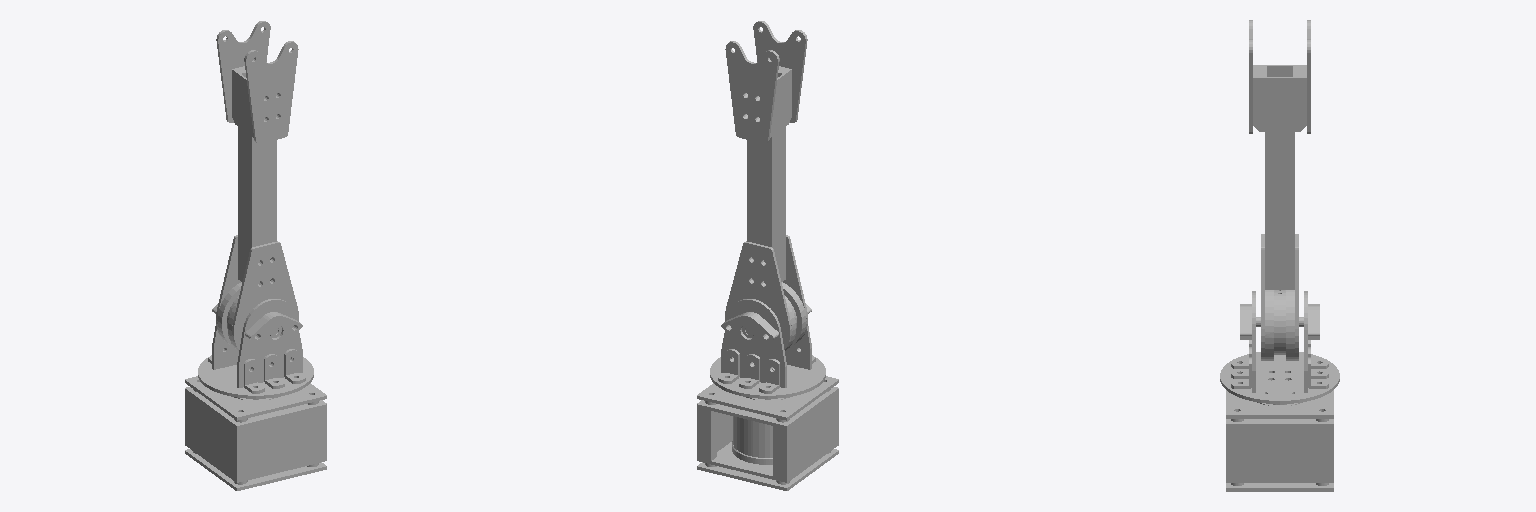
URDF robot description (Phase 1 Links 1 and 2):
<?xml version="1.0" encoding="utf-8"?>
<!-- This URDF was automatically created by SolidWorks to URDF Exporter! Originally created by [author] ([email redacted]) 
     Commit Version: 1.6.0-4-g7f85cfe  Build Version: 1.6.7995.38578
     For more information, please see http://wiki.ros.org/sw_urdf_exporter -->
<robot
  name="Phase 1 Links 1 and 2">
  <link
    name="base_link">
    <inertial>
      <origin
        xyz="-2.3158E-07 -0.0066564 0.035"
        rpy="0 0 0" />
      <mass
        value="1.3468" />
      <inertia
        ixx="0.001167"
        ixy="1.0458E-11"
        ixz="-1.3577E-14"
        iyy="0.001545"
        iyz="-3.1447E-14"
        izz="0.0023418" />
    </inertial>
    <visual>
      <origin
        xyz="0 0 0"
        rpy="0 0 0" />
      <geometry>
        <mesh
          filename="package://Phase 1 Links 1 and 2/meshes/base_link.STL" />
      </geometry>
      <material
        name="">
        <color
          rgba="0.75294 0.75294 0.75294 1" />
      </material>
    </visual>
    <collision>
      <origin
        xyz="0 0 0"
        rpy="0 0 0" />
      <geometry>
        <mesh
          filename="package://Phase 1 Links 1 and 2/meshes/base_link.STL" />
      </geometry>
    </collision>
  </link>
  <link
    name="Link 1 -  Purple">
    <inertial>
      <origin
        xyz="0.00046301 2.9701E-08 0.073559"
        rpy="0 0 0" />
      <mass
        value="0.3271" />
      <inertia
        ixx="0.00012213"
        ixy="-1.5392E-11"
        ixz="4.8687E-09"
        iyy="0.00013427"
        iyz="-6.6384E-11"
        izz="0.00011641" />
    </inertial>
    <visual>
      <origin
        xyz="0 0 0"
        rpy="0 0 0" />
      <geometry>
        <mesh
          filename="package://Phase 1 Links 1 and 2/meshes/Link 1 -  Purple.STL" />
      </geometry>
      <material
        name="">
        <color
          rgba="0.75294 0.75294 0.75294 1" />
      </material>
    </visual>
    <collision>
      <origin
        xyz="0 0 0"
        rpy="0 0 0" />
      <geometry>
        <mesh
          filename="package://Phase 1 Links 1 and 2/meshes/Link 1 -  Purple.STL" />
      </geometry>
    </collision>
  </link>
  <joint
    name="J1"
    type="revolute">
    <origin
      xyz="0 0 0.0025"
      rpy="0 0 0" />
    <parent
      link="base_link" />
    <child
      link="Link 1 -  Purple" />
    <axis
      xyz="0 0 1" />
    <limit
      lower="3.14"
      upper="-3.14"
      effort="10"
      velocity="100" />
  </joint>
  <link
    name="Link 2 - Orange ">
    <inertial>
      <origin
        xyz="2.4354E-06 0.10346 7.8406E-09"
        rpy="0 0 0" />
      <mass
        value="0.47746" />
      <inertia
        ixx="0.00097239"
        ixy="-6.6053E-09"
        ixz="2.5405E-12"
        iyy="9.7797E-05"
        iyz="-9.1051E-13"
        izz="0.00099837" />
    </inertial>
    <visual>
      <origin
        xyz="0 0 0"
        rpy="0 0 0" />
      <geometry>
        <mesh
          filename="package://Phase 1 Links 1 and 2/meshes/Link 2 - Orange .STL" />
      </geometry>
      <material
        name="">
        <color
          rgba="0.75294 0.75294 0.75294 1" />
      </material>
    </visual>
    <collision>
      <origin
        xyz="0 0 0"
        rpy="0 0 0" />
      <geometry>
        <mesh
          filename="package://Phase 1 Links 1 and 2/meshes/Link 2 - Orange .STL" />
      </geometry>
    </collision>
  </link>
  <joint
    name="J2"
    type="revolute">
    <origin
      xyz="0.0013777 0 0.133"
      rpy="1.5708 0 0" />
    <parent
      link="Link 1 -  Purple" />
    <child
      link="Link 2 - Orange " />
    <axis
      xyz="0 0 -1" />
    <limit
      lower="3.14"
      upper="-3.14"
      effort="10"
      velocity="100" />
  </joint>
</robot>

--- What the picture shows (computed from the rendered views, not written in the file) ---
3 views of the same robot in one strip: view 1: azimuth 30°, elevation 25°; view 2: azimuth 150°, elevation 25°; view 3: azimuth 270°, elevation 25° (orthographic).
Robot: Phase 1 Links 1 and 2 — 3 links, 2 joints (2 revolute); root link base_link; default pose: all joints at 0.
Visible links, largest first — view 1: Link 2 - Orange, base_link, Link 1 -  Purple; view 2: Link 2 - Orange, base_link, Link 1 -  Purple; view 3: Link 2 - Orange, base_link, Link 1 -  Purple.
Boxes of the visible links, x1=… form: Link 2 - Orange: x1=216, y1=21, x2=298, y2=350; base_link: x1=185, y1=376, x2=326, y2=490; Link 1 -  Purple: x1=198, y1=299, x2=313, y2=399; Link 2 - Orange: x1=725, y1=21, x2=807, y2=350; base_link: x1=697, y1=376, x2=838, y2=490; Link 1 -  Purple: x1=710, y1=299, x2=825, y2=457; Link 2 - Orange: x1=1249, y1=20, x2=1310, y2=360; base_link: x1=1226, y1=390, x2=1333, y2=491; Link 1 -  Purple: x1=1220, y1=291, x2=1339, y2=404.
Bounding box of the posed robot: 0.1 × 0.0999 × 0.4031 m (x, y, z).
3 mesh visuals loaded from 3 distinct referenced files (3 binary STL).